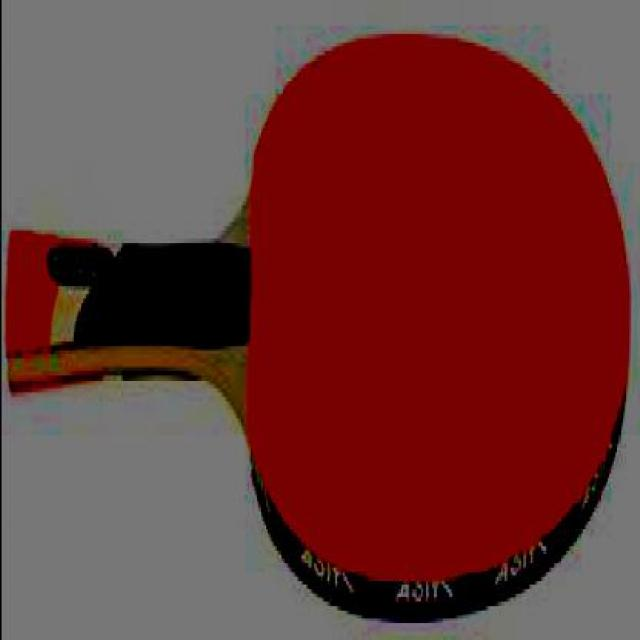table_tennis_racket: (237, 31, 629, 617)
